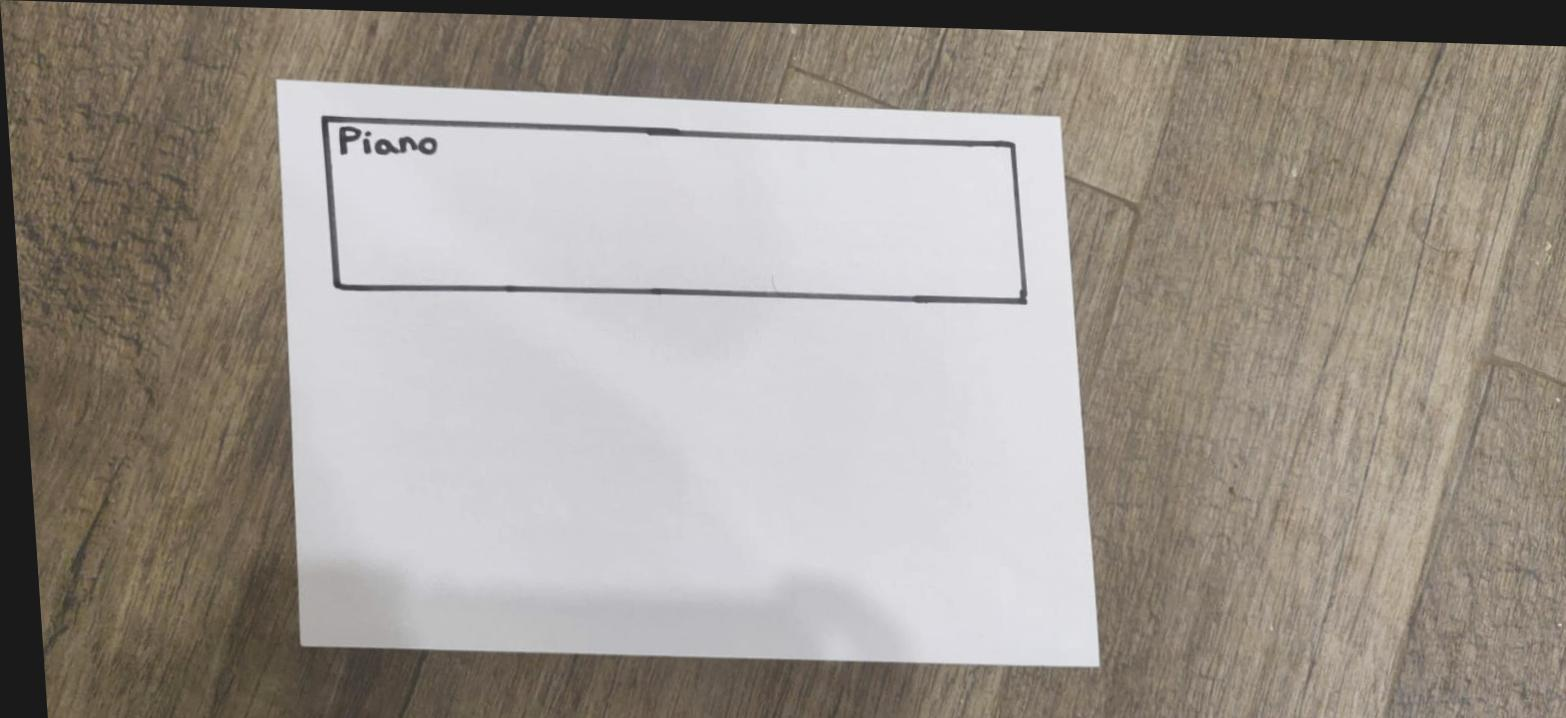paper-piano: (323, 117, 1021, 295)
